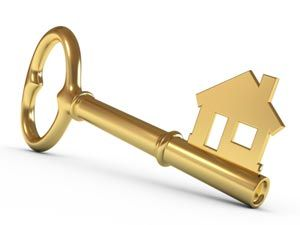key: (22, 25, 286, 210)
